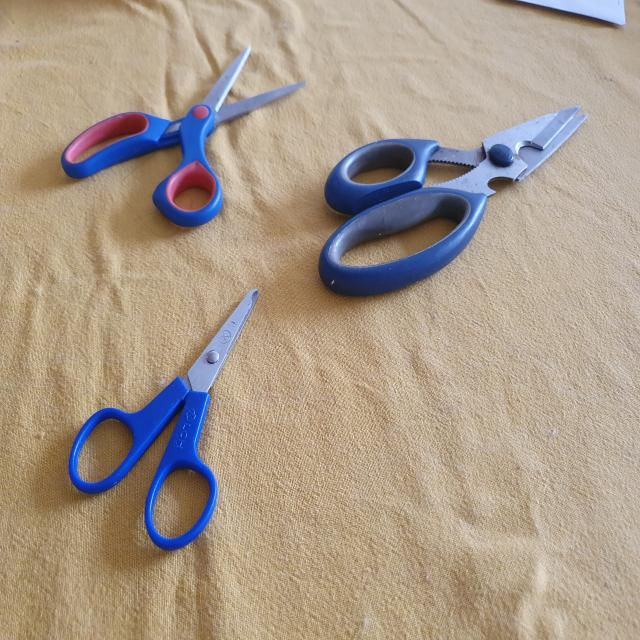scissors: (62, 284, 262, 551), (318, 102, 589, 297), (57, 49, 305, 227)
